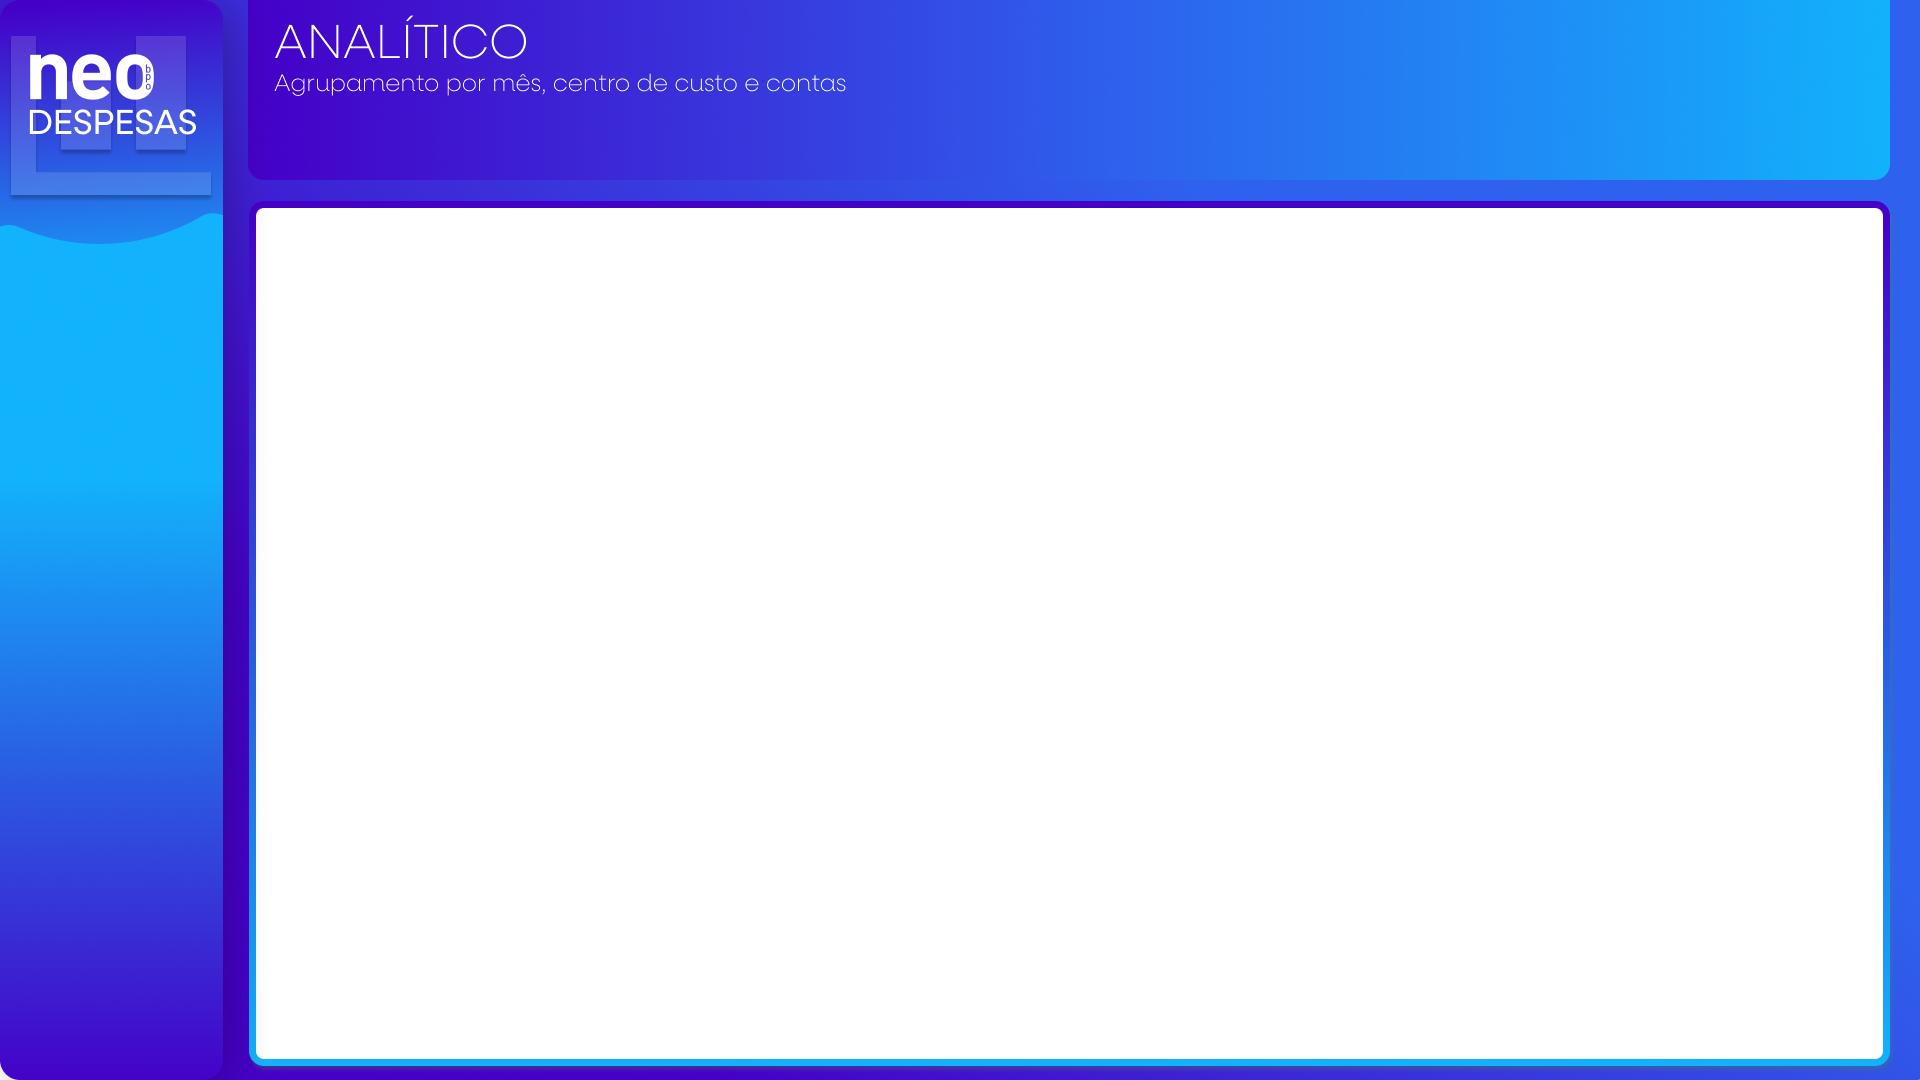

The page's visual inventory and layout, read from the dashboard file:
{"tool":"powerbi","page":{"name":"ANALÍTICO","canvas":[1280,720],"ordinal":3},"visuals":[{"type":"slicer","title":"Mês","fields":{"Values":["dCalendario.Mes_Abreviado"]},"box":[1161,8.8,96.3,55.1],"z":0},{"type":"slicer","title":"Ano","fields":{"Values":["dCalendario.Ano"]},"box":[1089,8.8,83,55.1],"z":1000},{"type":"slicer","title":"Centro de Custo","fields":{"Values":["dCENTRO_DE_CUSTO_MASTER.CC_NOME"]},"box":[1117.6,63.9,139.8,55.2],"z":2000},{"type":"slicer","title":"Grupo de Contas","fields":{"Values":["dCONTAS.GRUPO"]},"box":[906.7,63.9,216.8,55.1],"z":3000},{"type":"tableEx","title":"Desvio | Orçado |  Realizado por Conta Individual","fields":{"Values":["dCalendario.Mes_Abreviado","dCENTRO_DE_CUSTO_MASTER.CC_NOME","dCONTAS.CONTA","dCENTRO_DE_CUSTO.DESCRICAO","MEDIDAS.Desvio %","MEDIDAS.Vlr. Orçado","MEDIDAS.Vlr. Realizado"]},"box":[171.2,139.6,1086,567.3],"z":4000},{"type":"card","fields":{"Values":["MEDIDAS.Atualização"]},"box":[0,562.1,158.7,144.8],"z":5000},{"type":"pageNavigator","box":[0,185.9,149.2,213.1],"z":6000}]}

Visuals, with their boxes in screenshot pixels (x1, y1, x2, y2), scaled from the page's 1280x720 canvas onto the 1920x1080 screenshot:
"Mês" slicer: 1742 13 1886 96
"Ano" slicer: 1634 13 1758 96
"Centro de Custo" slicer: 1676 96 1886 179
"Grupo de Contas" slicer: 1360 96 1685 178
"Desvio | Orçado |  Realizado por Conta Individual" tableEx: 257 209 1886 1060
card - MEDIDAS.Atualização: 0 843 238 1060
pageNavigator: 0 279 224 598
